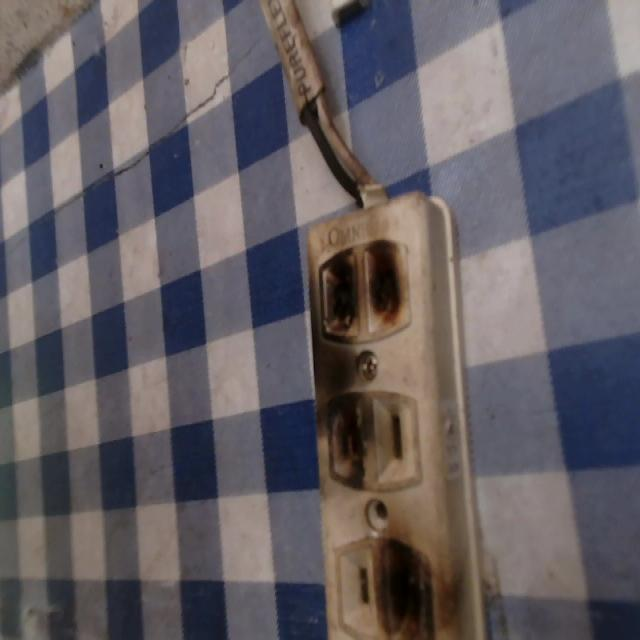-: (314, 235, 424, 345), (314, 385, 374, 488), (378, 536, 434, 639)
